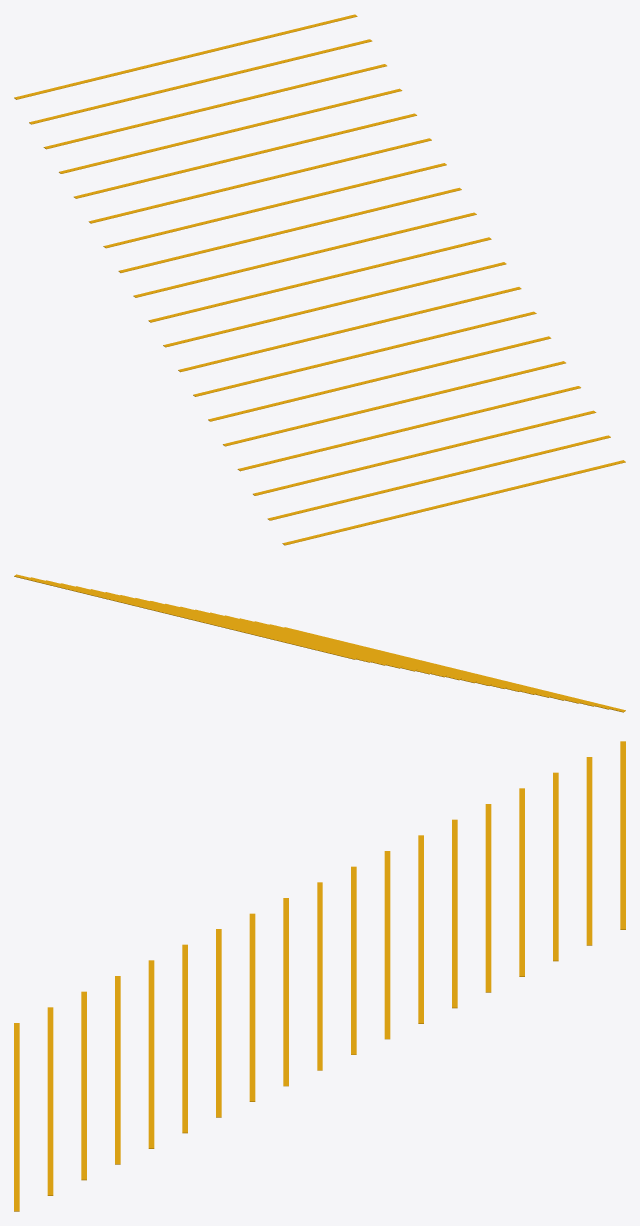
Rendered from gteki_ik_stair_n19_r168_t328_w4347_nosing.glb.
3 renders of one model, top to bottom at view 1: azimuth 30°, elevation 25°; view 2: azimuth 150°, elevation 25°; view 3: azimuth 270°, elevation 25°, orthographic. The views are drawn at different scales.
Parts seen in each view (by area): view 1: VIS_body; view 2: VIS_body; view 3: VIS_body.
Part boxes in pixels (x1,y1,x2,y2): VIS_body: (14,14,625,545); VIS_body: (14,574,625,712); VIS_body: (14,741,625,1211).
Bounding box in the file's own units: 4.33 × 3.03 × 5.96.
1 material, 1 textured.
